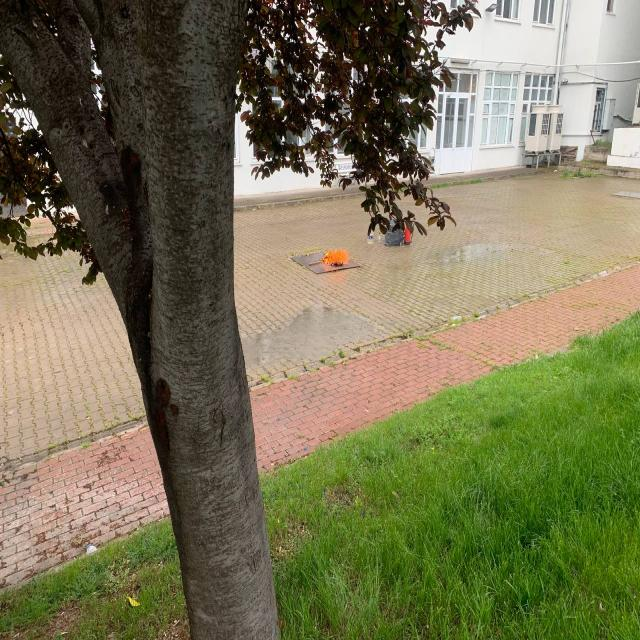fire: (317, 239, 353, 270)
